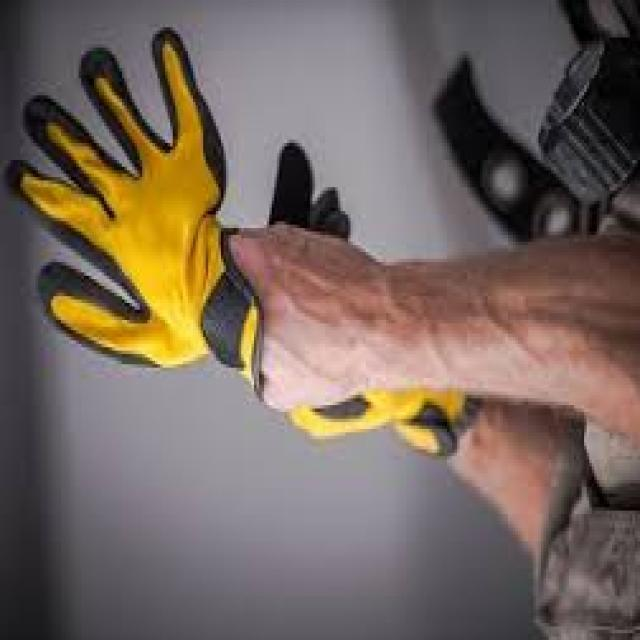gloved: (12, 33, 266, 406)
not-gloved: (266, 225, 396, 425)
